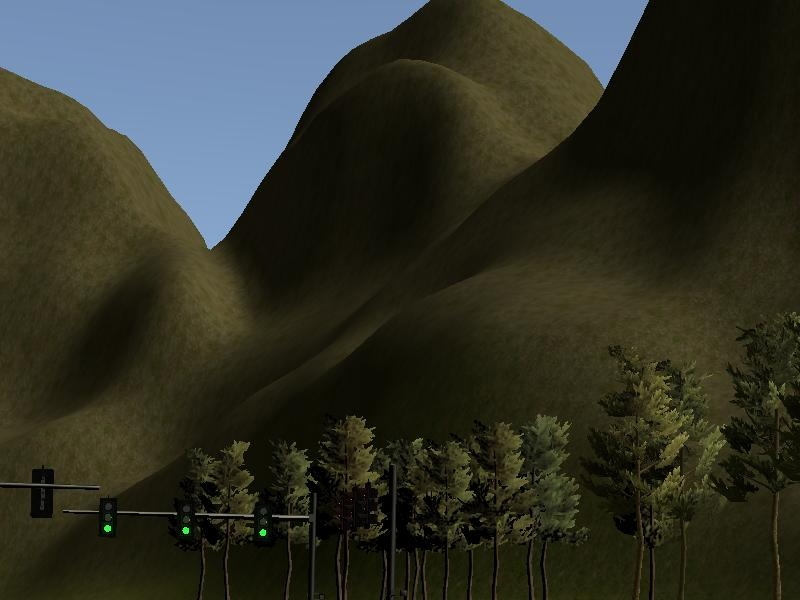GREEN: (254, 501, 272, 541), (99, 498, 117, 537), (176, 500, 194, 538)
